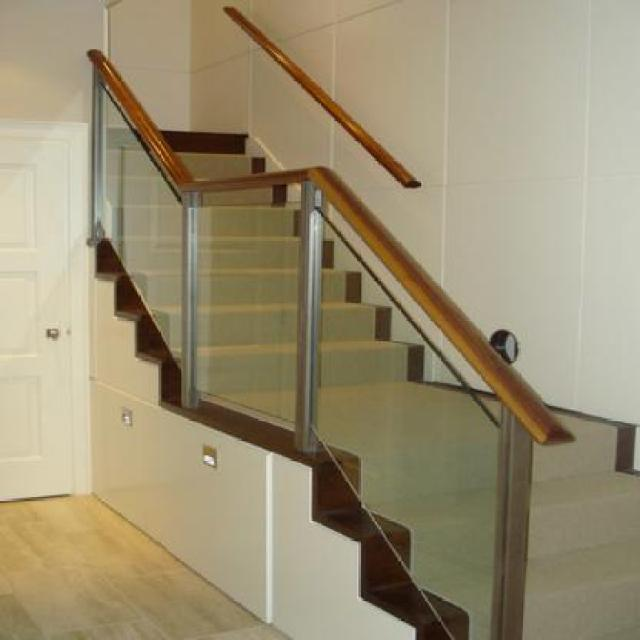stair: (70, 90, 621, 638)
